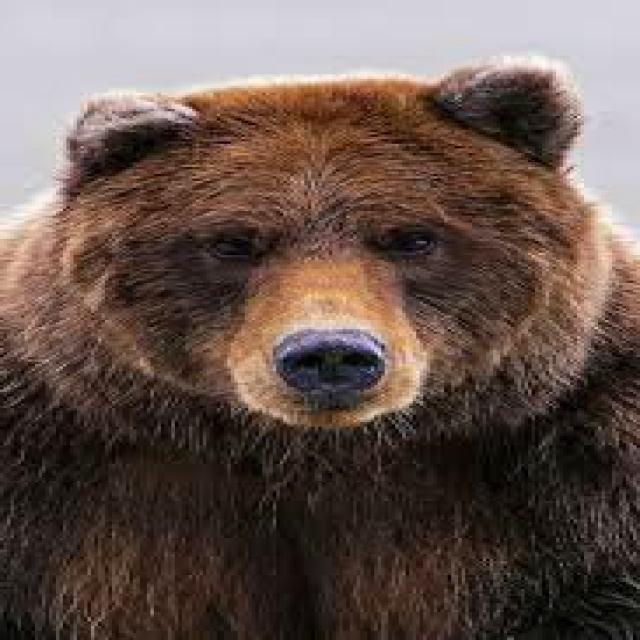bear: (3, 63, 640, 638)
